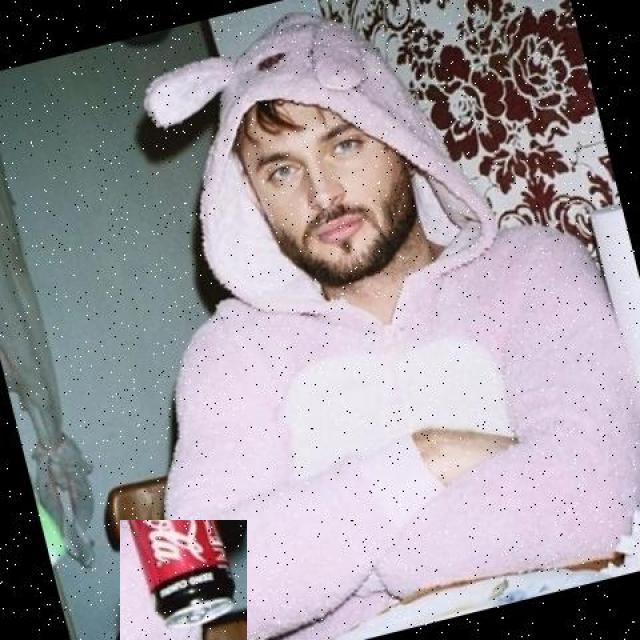coca-cola: (120, 520, 247, 640)
